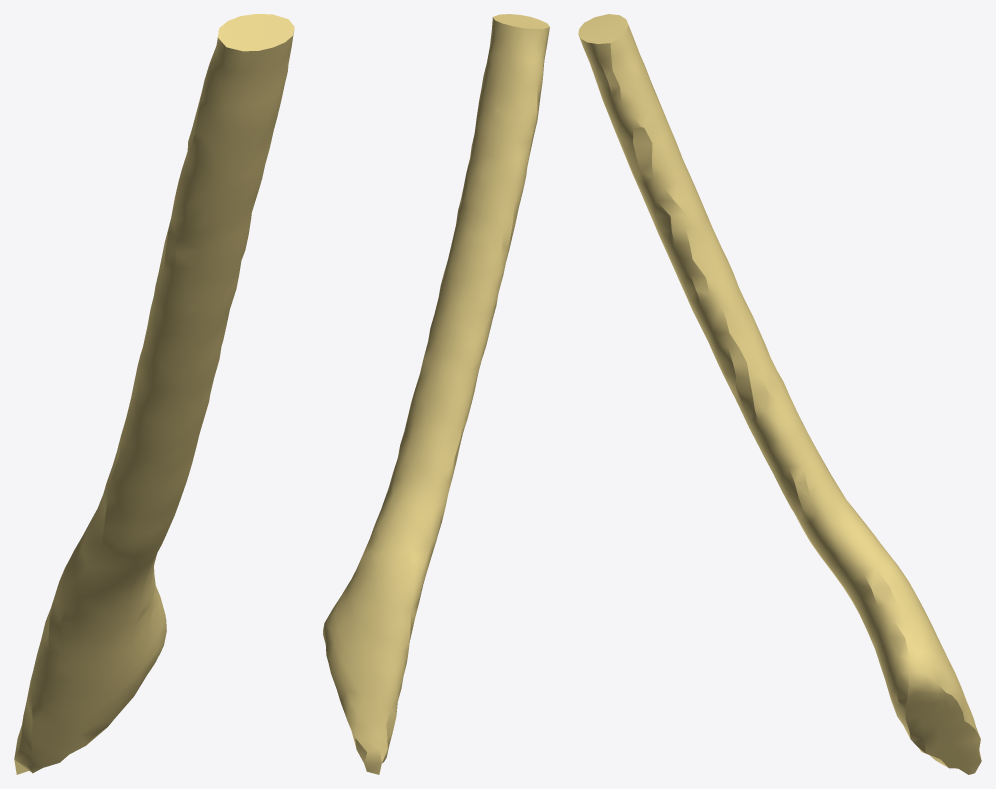
The model's file is fma73836_mm3405.glb.
3 views of the same model, side by side, from view 1: azimuth 30°, elevation 25°; view 2: azimuth 150°, elevation 25°; view 3: azimuth 270°, elevation 25° (orthographic). The views are drawn at different scales.
Parts seen in each view (by area): view 1: FMA73836_MM3405; view 2: FMA73836_MM3405; view 3: FMA73836_MM3405.
Boxes of the visible parts, x1,y1,x2,y2 form: FMA73836_MM3405: (14,14,294,774); FMA73836_MM3405: (323,14,549,774); FMA73836_MM3405: (578,14,981,774).
Size of the model in its own units: 0.00228 by 0.0146 by 0.00708.
